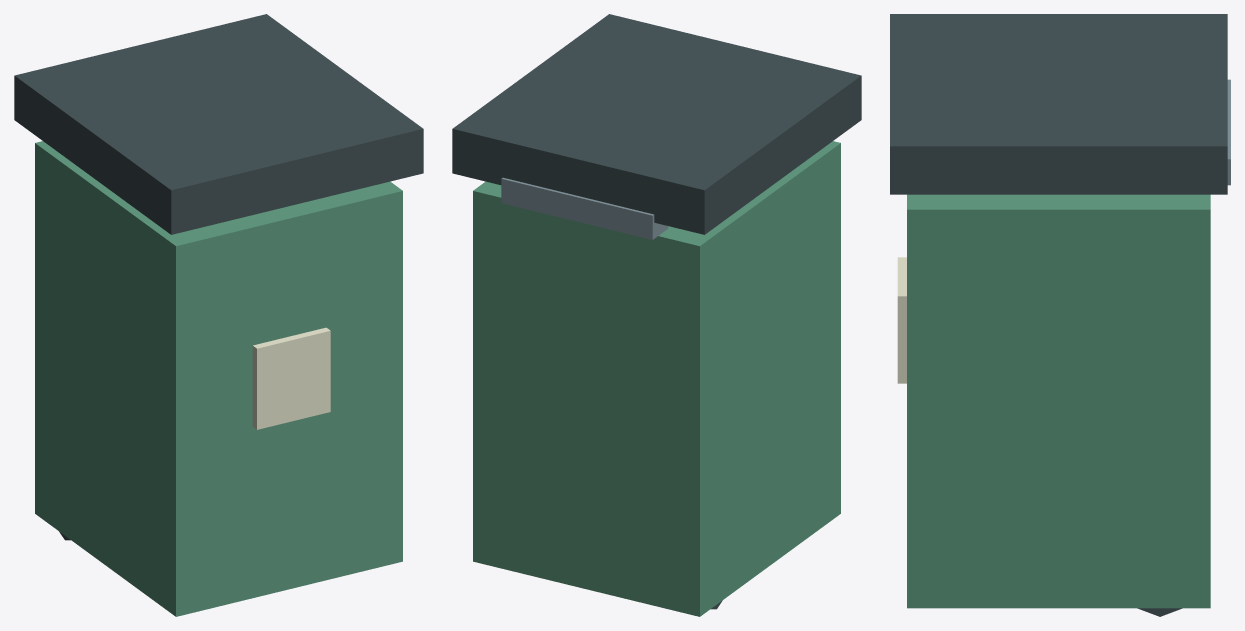
File: bin-wheelie.glb
3 renders of one model, left to right at view 1: azimuth 30°, elevation 25°; view 2: azimuth 150°, elevation 25°; view 3: azimuth 270°, elevation 25°, orthographic. The views are drawn at different scales.
Parts seen in each view (by area): view 1: bin body, lid, recycling badge; view 2: bin body, lid, handle; view 3: bin body, lid, recycling badge.
Boxes of the visible parts, x1,y1,x2,y2 form: bin body: (35,141,402,616); lid: (14,14,423,540); recycling badge: (252,327,330,429); bin body: (473,141,840,616); lid: (452,14,861,609); handle: (501,177,668,239); bin body: (907,194,1210,608); lid: (890,14,1227,616); recycling badge: (897,257,906,383).
Bounding box in the file's own units: 0.65 × 1.1 × 0.707.
